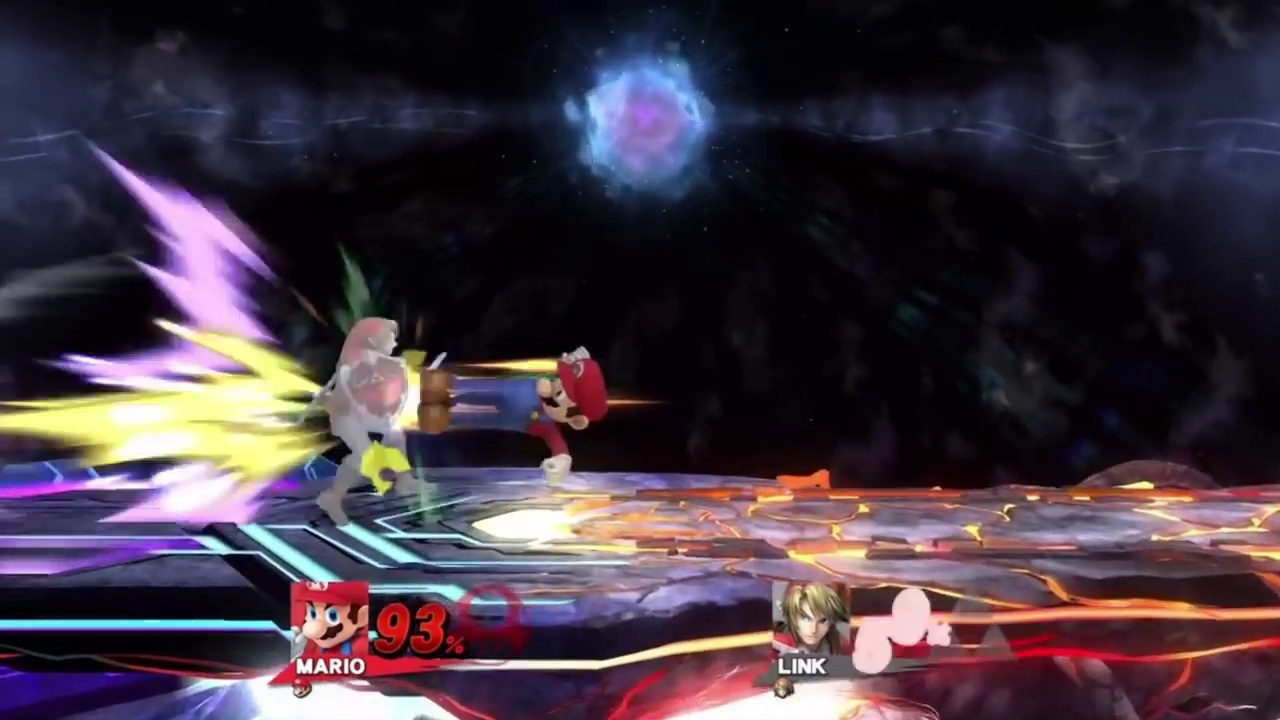Mario: (415, 345, 606, 482)
